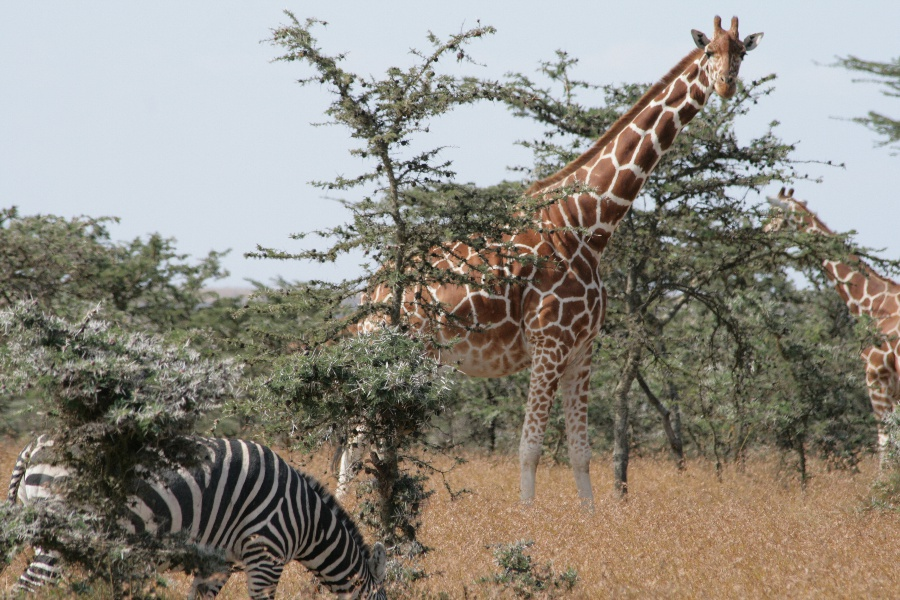giraffe: (316, 12, 762, 493), (766, 177, 897, 512)
